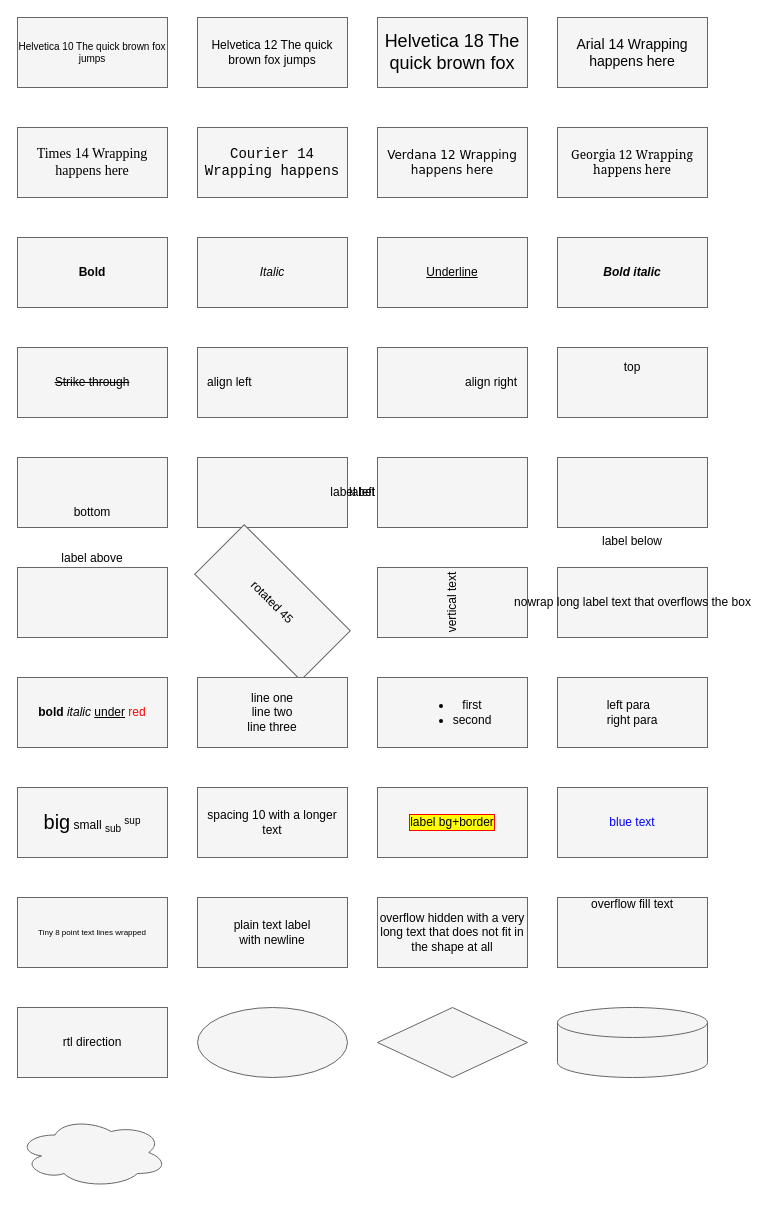
Image size: 768x1205. Some labels were removed from this diagram. The box of each missing label's shape, as (x1, y1, x2, y2) in pixels:
cloud label: (16, 1116, 168, 1188)
cylinder label: (556, 1006, 708, 1078)
ellipse label wraps inside: (196, 1006, 348, 1078)
rhombus label: (376, 1006, 528, 1078)
